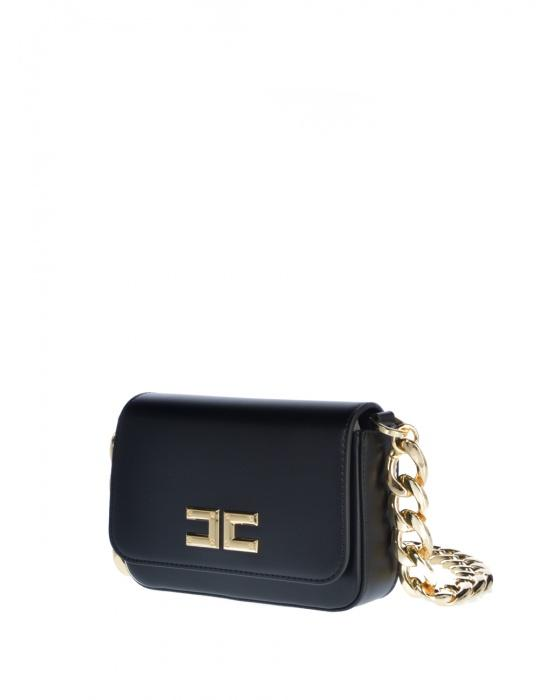ELISABETTA-FRANCHI: (181, 495, 268, 569)
